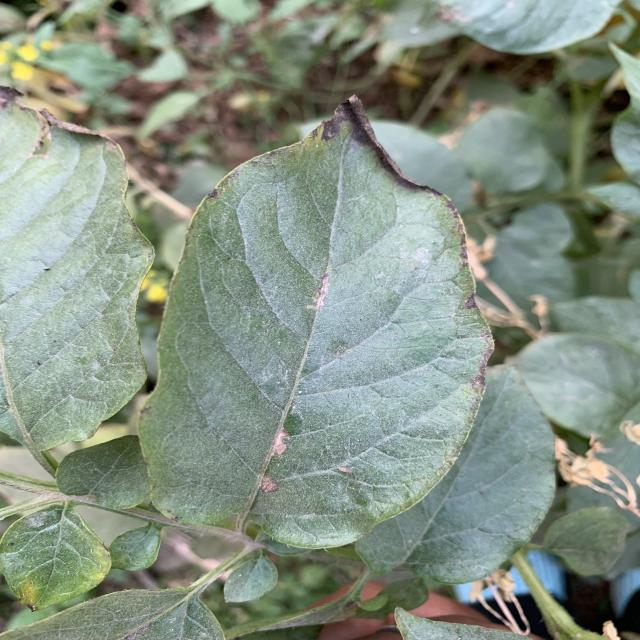lateblight: (312, 96, 420, 190)
